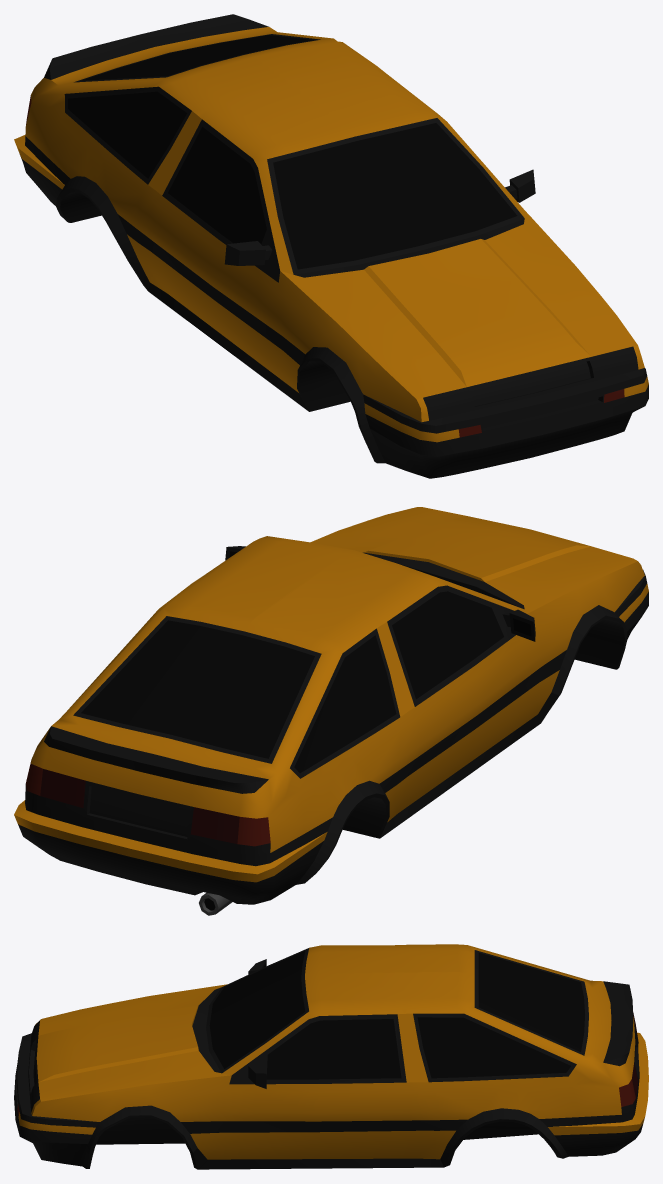
3 views of the same model, one above another, from view 1: azimuth 30°, elevation 25°; view 2: azimuth 150°, elevation 25°; view 3: azimuth 270°, elevation 25° (orthographic). The views are drawn at different scales.
Visible parts, largest first — view 1: ae86; view 2: ae86; view 3: ae86.
Part boxes in pixels (left/top/right/bottom): ae86: left=14, top=14, right=648, bottom=478; ae86: left=14, top=507, right=648, bottom=915; ae86: left=14, top=944, right=648, bottom=1169.
Bounding box in the file's own units: 1.86 × 1.16 × 4.31.
